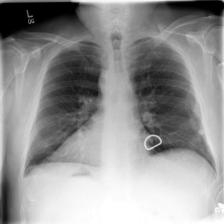normal: (20, 36, 221, 192)
